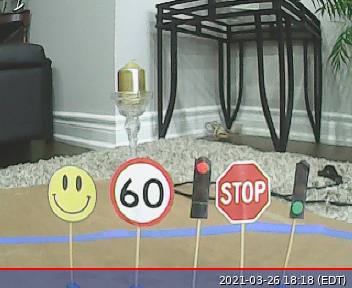Green Traffic Light: (287, 160, 311, 220)
Person: (47, 165, 97, 223)
Red Traffic Light: (187, 155, 212, 219)
Speed Limit 60: (109, 156, 174, 226)
Stop Sign: (215, 160, 271, 223)
